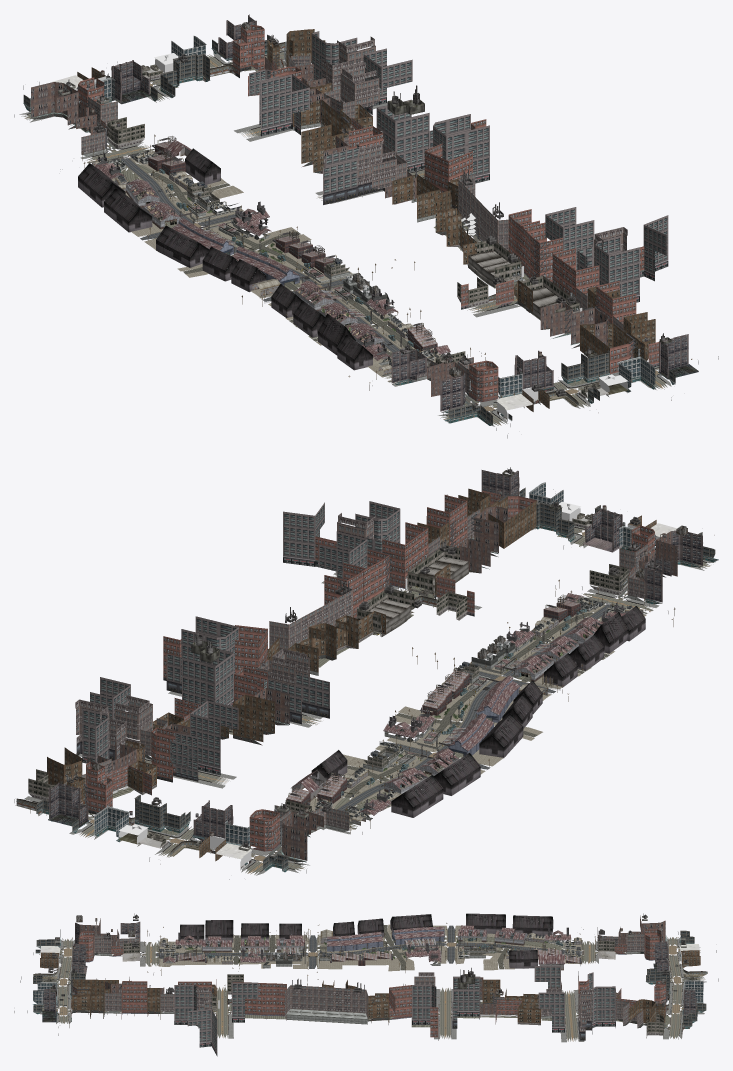
File: far_golu.glb
3 renders of one model, top to bottom at view 1: azimuth 30°, elevation 25°; view 2: azimuth 150°, elevation 25°; view 3: azimuth 270°, elevation 25°, orthographic. The views are drawn at different scales.
Visible parts, largest first — view 1: golu; view 2: golu; view 3: golu.
Part boxes in pixels (box(x1,y1,x2,y2)): golu: box(14, 14, 718, 438); golu: box(14, 467, 718, 879); golu: box(14, 913, 718, 1056).
Size of the model in its own units: 172 by 36.76 by 387.
92 materials, 91 textured.
